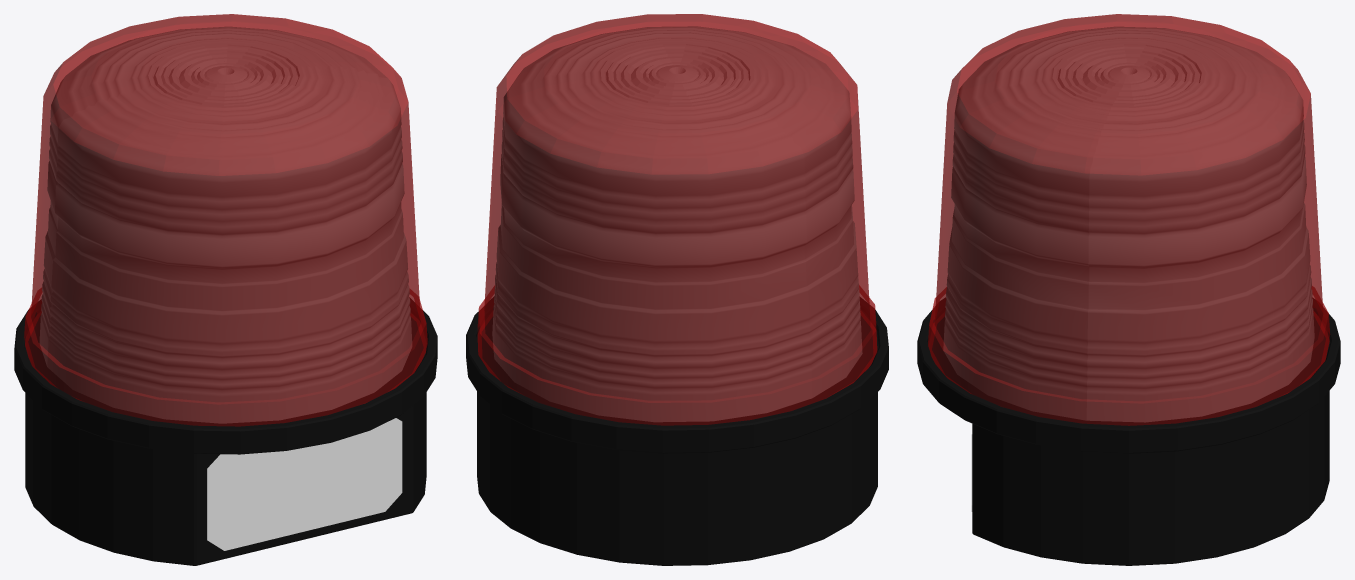
The model's file is warningLight.FBX.
3 views of the same model, side by side, from view 1: azimuth 30°, elevation 25°; view 2: azimuth 150°, elevation 25°; view 3: azimuth 270°, elevation 25° (orthographic).
Visible parts, largest first — view 1: MD_chedeng_Grp_MD_cheding_MD_dengzhaowai_GEO, MD_chedeng_Grp_MD_cheding_MD_dengzhaonei_Geo, Circle001, Rectangle001; view 2: MD_chedeng_Grp_MD_cheding_MD_dengzhaowai_GEO, MD_chedeng_Grp_MD_cheding_MD_dengzhaonei_Geo, Circle001; view 3: MD_chedeng_Grp_MD_cheding_MD_dengzhaowai_GEO, MD_chedeng_Grp_MD_cheding_MD_dengzhaonei_Geo, Circle001.
Boxes of the visible parts, x1,y1,x2,y2 form: MD_chedeng_Grp_MD_cheding_MD_dengzhaowai_GEO: (24,14,427,426); MD_chedeng_Grp_MD_cheding_MD_dengzhaonei_Geo: (39,26,412,423); Circle001: (14,298,437,565); Rectangle001: (207,418,402,550); MD_chedeng_Grp_MD_cheding_MD_dengzhaowai_GEO: (477,14,877,425); MD_chedeng_Grp_MD_cheding_MD_dengzhaonei_Geo: (492,26,862,422); Circle001: (466,297,888,565); MD_chedeng_Grp_MD_cheding_MD_dengzhaowai_GEO: (928,14,1330,425); MD_chedeng_Grp_MD_cheding_MD_dengzhaonei_Geo: (943,26,1314,422); Circle001: (917,298,1340,565).
Size of the model in its own units: 28.55 by 30.86 by 28.55.
